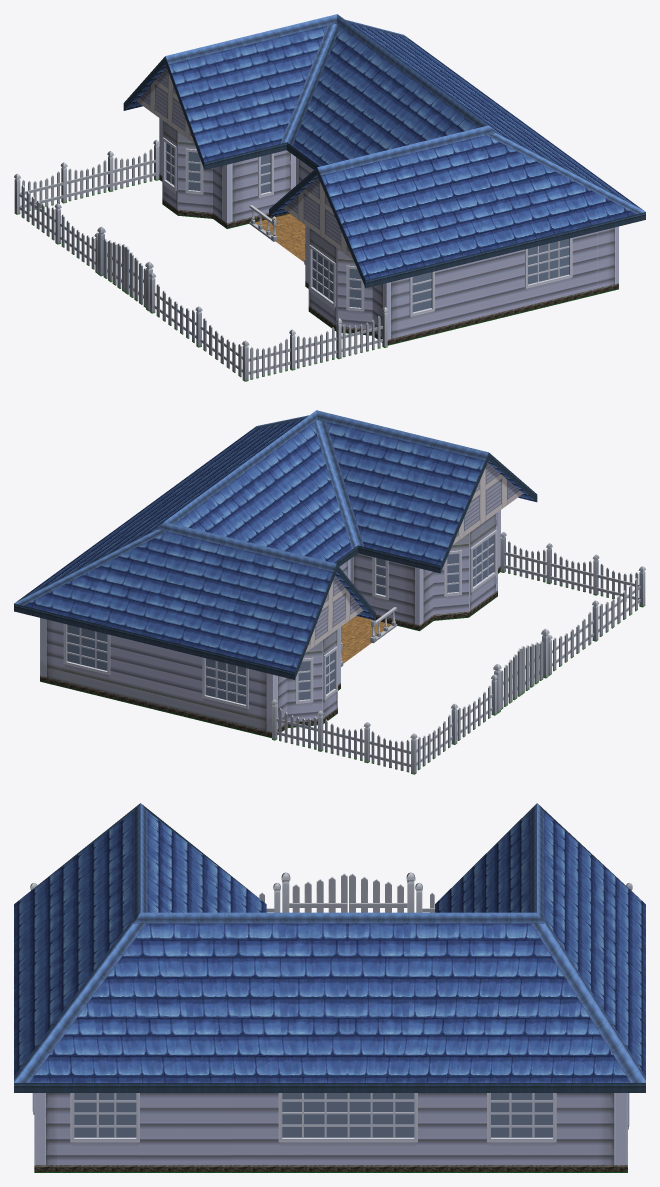
Rendered from house_0130004.FBX.
The picture shows the model from 3 angles, top to bottom: view 1: azimuth 30°, elevation 25°; view 2: azimuth 150°, elevation 25°; view 3: azimuth 270°, elevation 25°; orthographic projection. The views are drawn at different scales.
Visible parts, largest first — view 1: house_0130004_roof_100_00, house_0130004_floor_100_00, house_01300034_outwall_100_03, house_0130004_floor_103_00, house_01300034_outwall_100_02, house_01300034_outwall_100_07, house_01300034_outwall_100_06, house_0130004_floor_105_00, house_0130004_floor_102_00, house_0130004_tcx_100_05; view 2: house_0130004_roof_100_00, house_0130004_floor_100_00, house_01300034_outwall_100_05, house_0130004_floor_105_00, house_01300034_outwall_100_02, house_01300034_outwall_100_01, house_0130004_floor_103_00, house_01300034_outwall_100_06, house_0130004_floor_104_00, house_0130004_tcx_100_07, house_0130004_tcx_100_04; view 3: house_0130004_roof_100_00, house_01300034_outwall_100_04, house_0130004_floor_101_00, house_0130004_tcx_100_06, house_0130004_floor_100_00, house_0130004_floor_104_00, house_0130004_floor_102_00.
Part boxes in pixels (x1=…): house_0130004_roof_100_00: x1=123, y1=14, x2=645, y2=287; house_0130004_floor_100_00: x1=14, y1=139, x2=388, y2=381; house_01300034_outwall_100_03: x1=386, y1=226, x2=618, y2=339; house_0130004_floor_103_00: x1=309, y1=245, x2=434, y2=319; house_01300034_outwall_100_02: x1=305, y1=225, x2=386, y2=336; house_01300034_outwall_100_07: x1=227, y1=150, x2=295, y2=222; house_01300034_outwall_100_06: x1=159, y1=118, x2=226, y2=222; house_0130004_floor_105_00: x1=162, y1=137, x2=273, y2=200; house_0130004_floor_102_00: x1=525, y1=238, x2=572, y2=291; house_0130004_tcx_100_05: x1=387, y1=283, x2=618, y2=345; house_0130004_roof_100_00: x1=14, y1=410, x2=537, y2=679; house_0130004_floor_100_00: x1=271, y1=532, x2=645, y2=774; house_01300034_outwall_100_05: x1=40, y1=618, x2=272, y2=732; house_0130004_floor_105_00: x1=202, y1=646, x2=337, y2=711; house_01300034_outwall_100_02: x1=419, y1=510, x2=500, y2=624; house_01300034_outwall_100_01: x1=350, y1=553, x2=419, y2=625; house_0130004_floor_103_00: x1=372, y1=530, x2=496, y2=602; house_01300034_outwall_100_06: x1=273, y1=627, x2=340, y2=729; house_0130004_floor_104_00: x1=63, y1=623, x2=110, y2=677; house_0130004_tcx_100_07: x1=40, y1=676, x2=271, y2=738; house_0130004_tcx_100_04: x1=419, y1=566, x2=500, y2=630; house_0130004_roof_100_00: x1=14, y1=803, x2=645, y2=1092; house_01300034_outwall_100_04: x1=34, y1=1093, x2=627, y2=1165; house_0130004_floor_101_00: x1=278, y1=1093, x2=417, y2=1145; house_0130004_tcx_100_06: x1=34, y1=1165, x2=627, y2=1172; house_0130004_floor_100_00: x1=30, y1=872, x2=632, y2=912; house_0130004_floor_104_00: x1=487, y1=1093, x2=629, y2=1145; house_0130004_floor_102_00: x1=32, y1=1093, x2=139, y2=1145.
Bounding box in the file's own units: 1372 × 519 × 1456.
Materials: 23 (22 with a texture image).
